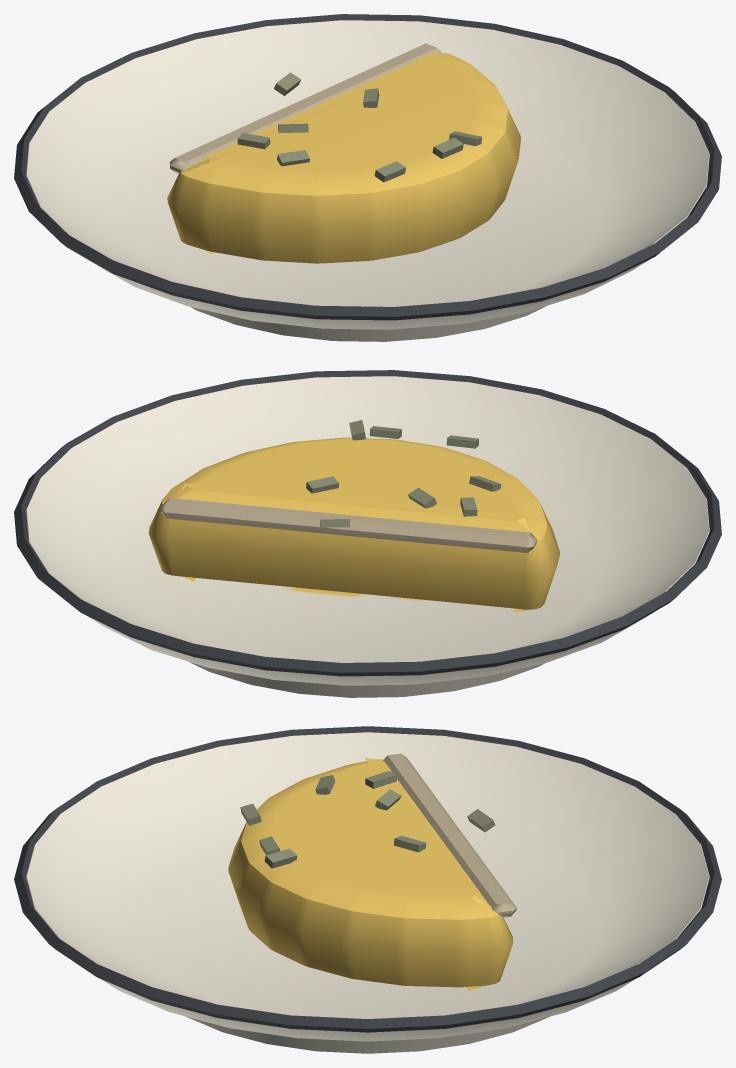
Rendered from cook_omelette.glb.
3 renders of one model, top to bottom at view 1: azimuth 30°, elevation 25°; view 2: azimuth 150°, elevation 25°; view 3: azimuth 270°, elevation 25°, orthographic.
Parts seen in each view (by area): view 1: body; view 2: body; view 3: body.
Boxes of the visible parts, x1,y1,x2,y2 form: body: (14, 14, 721, 341); body: (14, 370, 721, 697); body: (14, 726, 721, 1053).
Size of the model in its own units: 0.0668 by 0.0134 by 0.0668.
